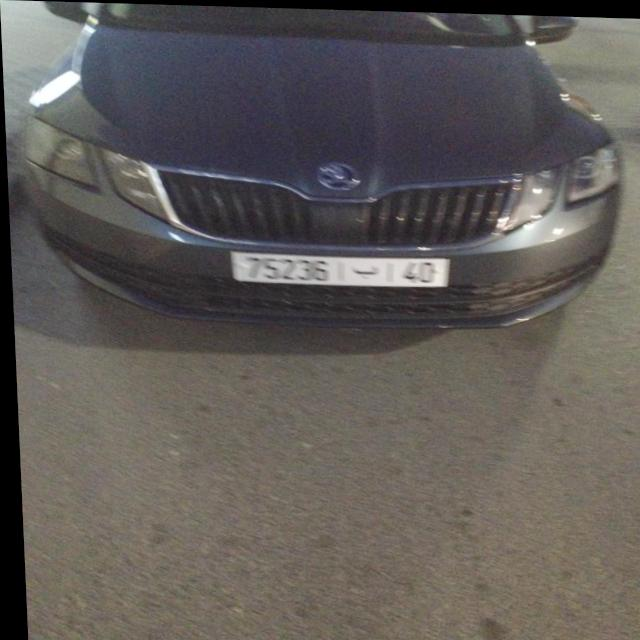License-Plate: (229, 251, 447, 285)
